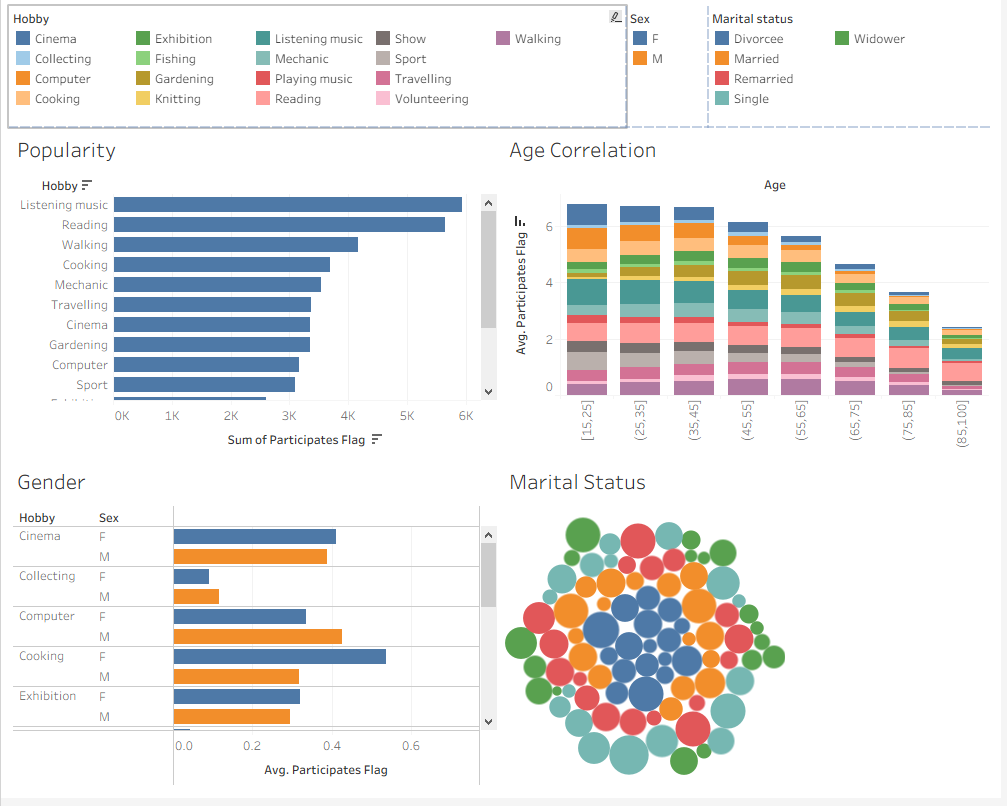

The dashboard page shown, as its layout file describes it:
{"tool":"tableau","page":{"name":"Dashboard 1","canvas":[1000,800],"ordinal":0},"visuals":[{"type":"legend","title":"AgeCor","param":"[federated.0rnvy7p1mi9iu412taaix1h57r0f].[none:Pivot Field Names:nk]","box":[8,8,617,121]},{"type":"legend","title":"Gender","param":"[federated.0rnvy7p1mi9iu412taaix1h57r0f].[none:Sex:nk]","box":[625,8,82,121]},{"type":"legend","title":"MStatus","param":"[federated.0rnvy7p1mi9iu412taaix1h57r0f].[none:Marital status:nk]","box":[707,8,285,121]},{"type":"worksheet","title":"Popularity","mark":"Automatic","rows":["Pivot Field Names"],"cols":["Calculation_1231192208277508"],"box":[8,129,492,331.5]},{"type":"worksheet","title":"AgeCor","mark":"Automatic","rows":["Calculation_1231192208277508"],"cols":["Age"],"box":[500,129,492,331.5]},{"type":"worksheet","title":"Gender","mark":"Automatic","rows":["Pivot Field Names","Sex"],"cols":["Calculation_1231192208277508"],"box":[8,460.5,492,331.5]},{"type":"worksheet","title":"MStatus","mark":"Circle","box":[500,460.5,492,331.5]}]}

Visuals, with their boxes in screenshot pixels (x1, y1, x2, y2), scaled from the page's 1000x800 canvas onto the 1007x806 screenshot:
"AgeCor" legend: (8, 8, 629, 130)
"Gender" legend: (629, 8, 712, 130)
"MStatus" legend: (712, 8, 999, 130)
"Popularity" worksheet: (8, 130, 503, 464)
"AgeCor" worksheet: (503, 130, 999, 464)
"Gender" worksheet: (8, 464, 503, 798)
"MStatus" worksheet (Circle marks): (503, 464, 999, 798)
